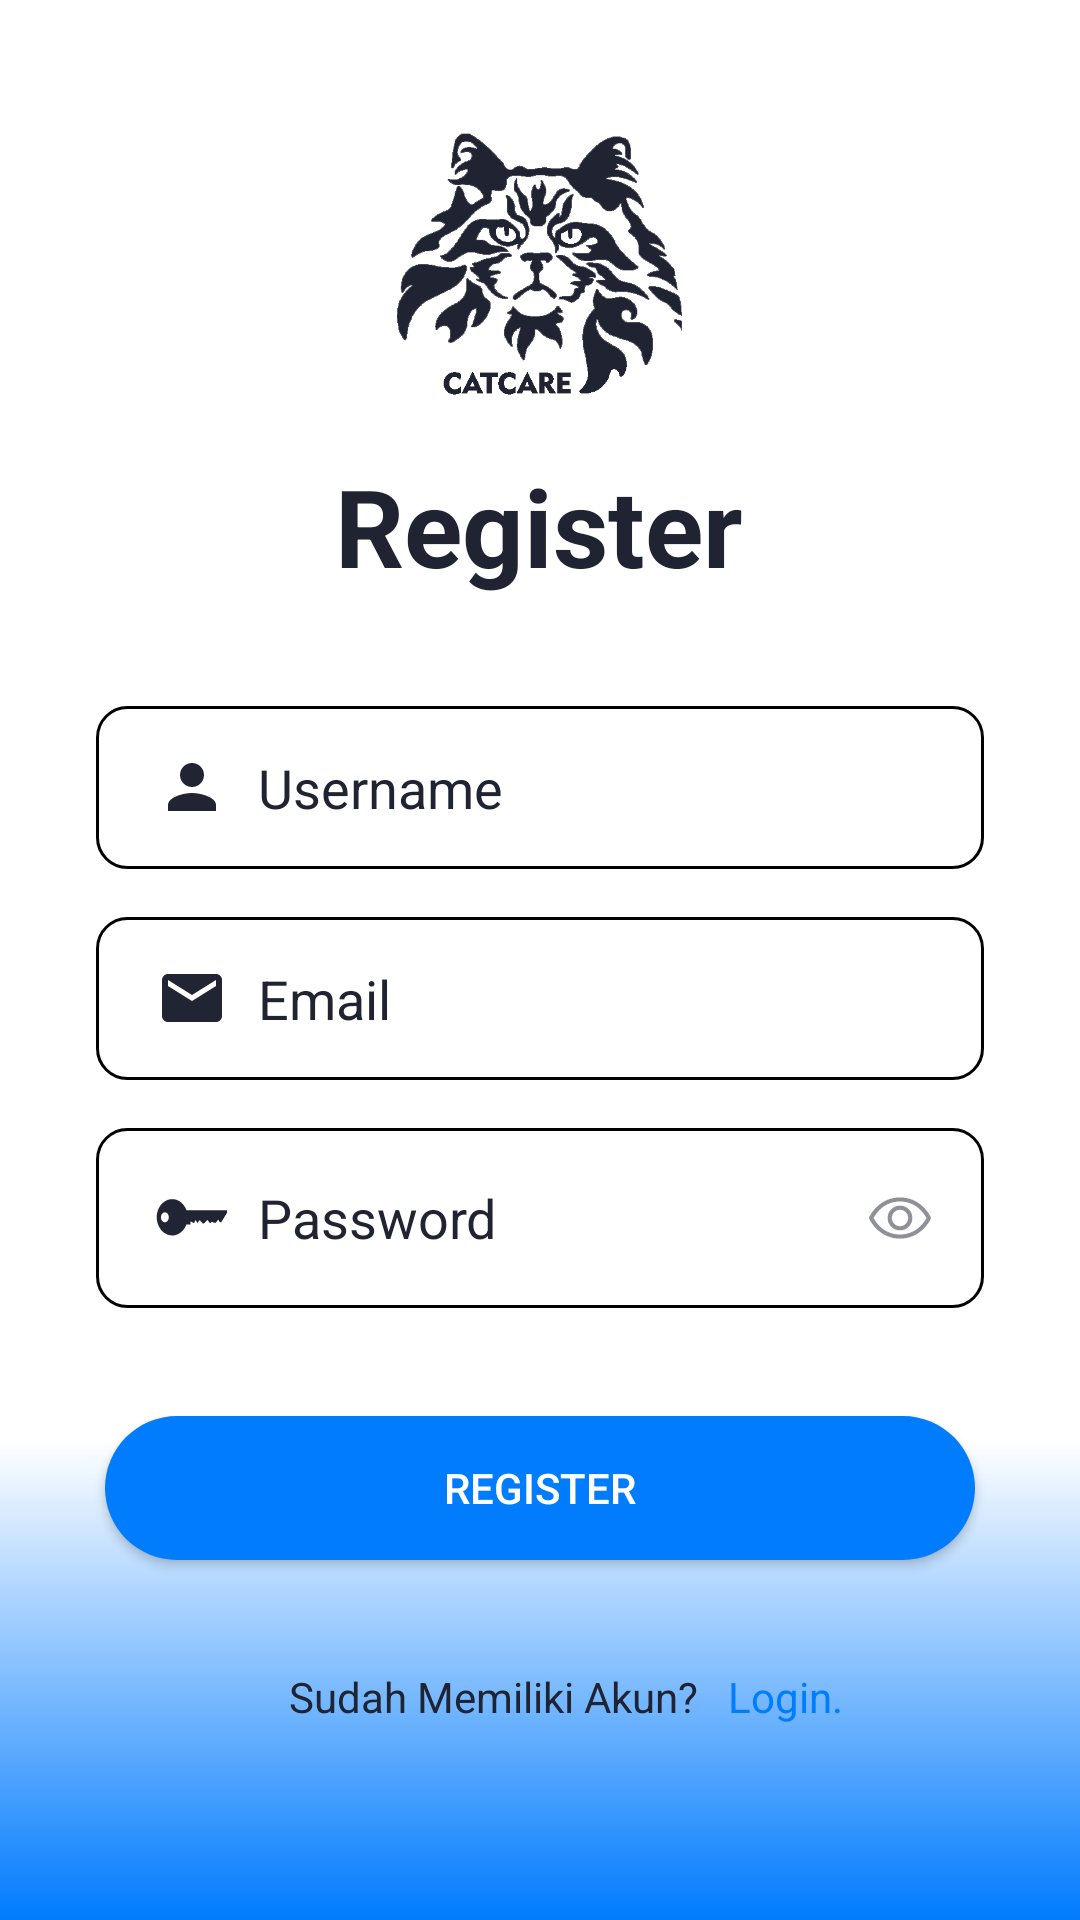

Icons on this 1080w x 1920h Android screen, each with its box as box(x1, y1, x2, y2):
eye: box(869, 1197, 931, 1239)
